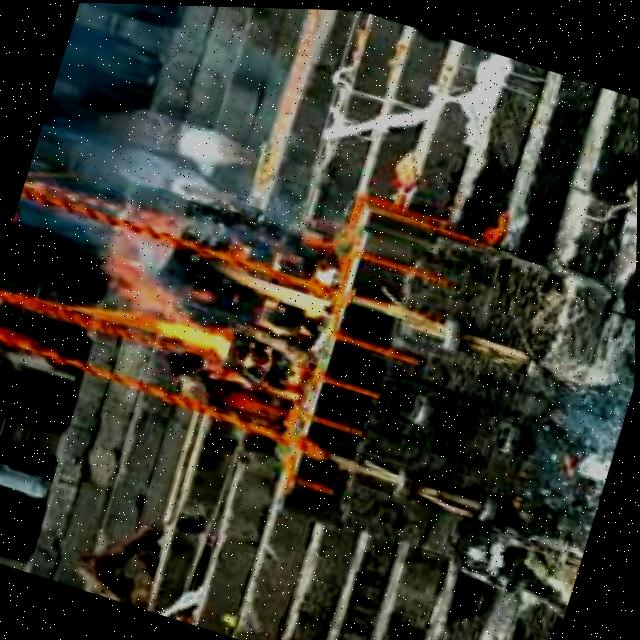Fire: (83, 255, 252, 370), (211, 236, 346, 327)
